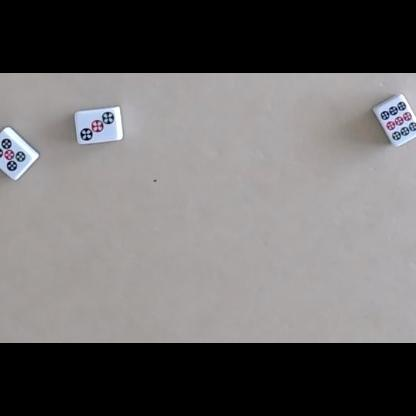3p: (79, 111, 114, 142)
5p: (0, 137, 26, 171)
9p: (380, 100, 416, 141)
